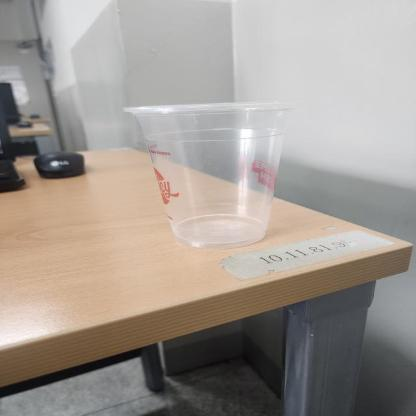Plastic Cup: (120, 102, 310, 248)
